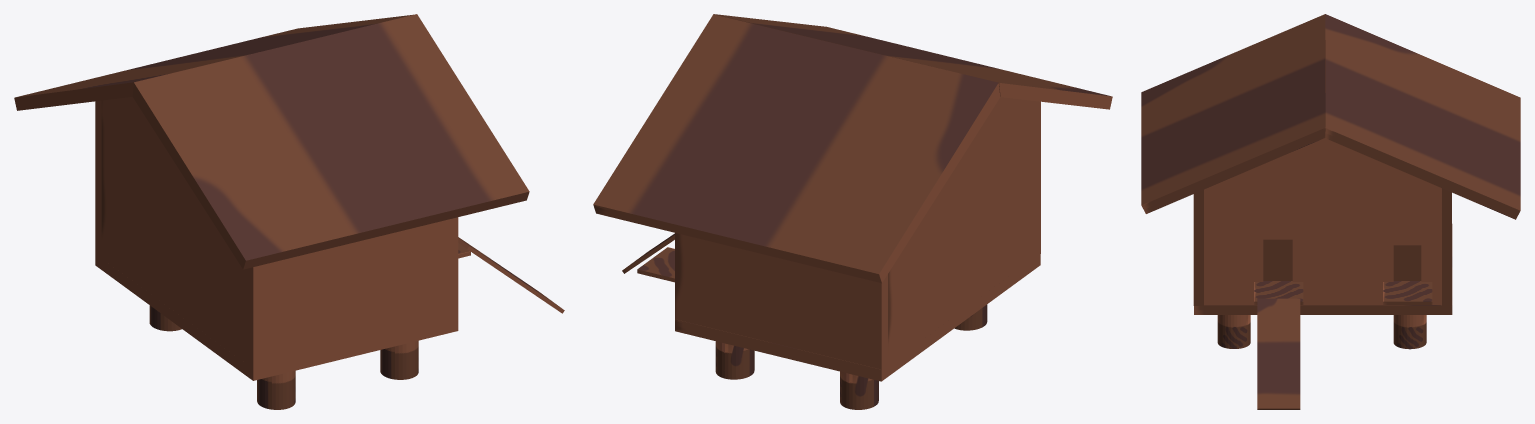
Rendered from barn.glb.
3 views of the same model, side by side, from view 1: azimuth 30°, elevation 25°; view 2: azimuth 150°, elevation 25°; view 3: azimuth 270°, elevation 25° (orthographic). The views are drawn at different scales.
Parts seen in each view (by area): view 1: Cube.007; view 2: Cube.007; view 3: Cube.007.
Part boxes in pixels (x1=…): Cube.007: x1=14, y1=14, x2=564, y2=409; Cube.007: x1=593, y1=14, x2=1112, y2=409; Cube.007: x1=1141, y1=14, x2=1520, y2=409.
Bounding box in the file's own units: 14.97 × 10.97 × 15.38.
1 material, 1 textured.
